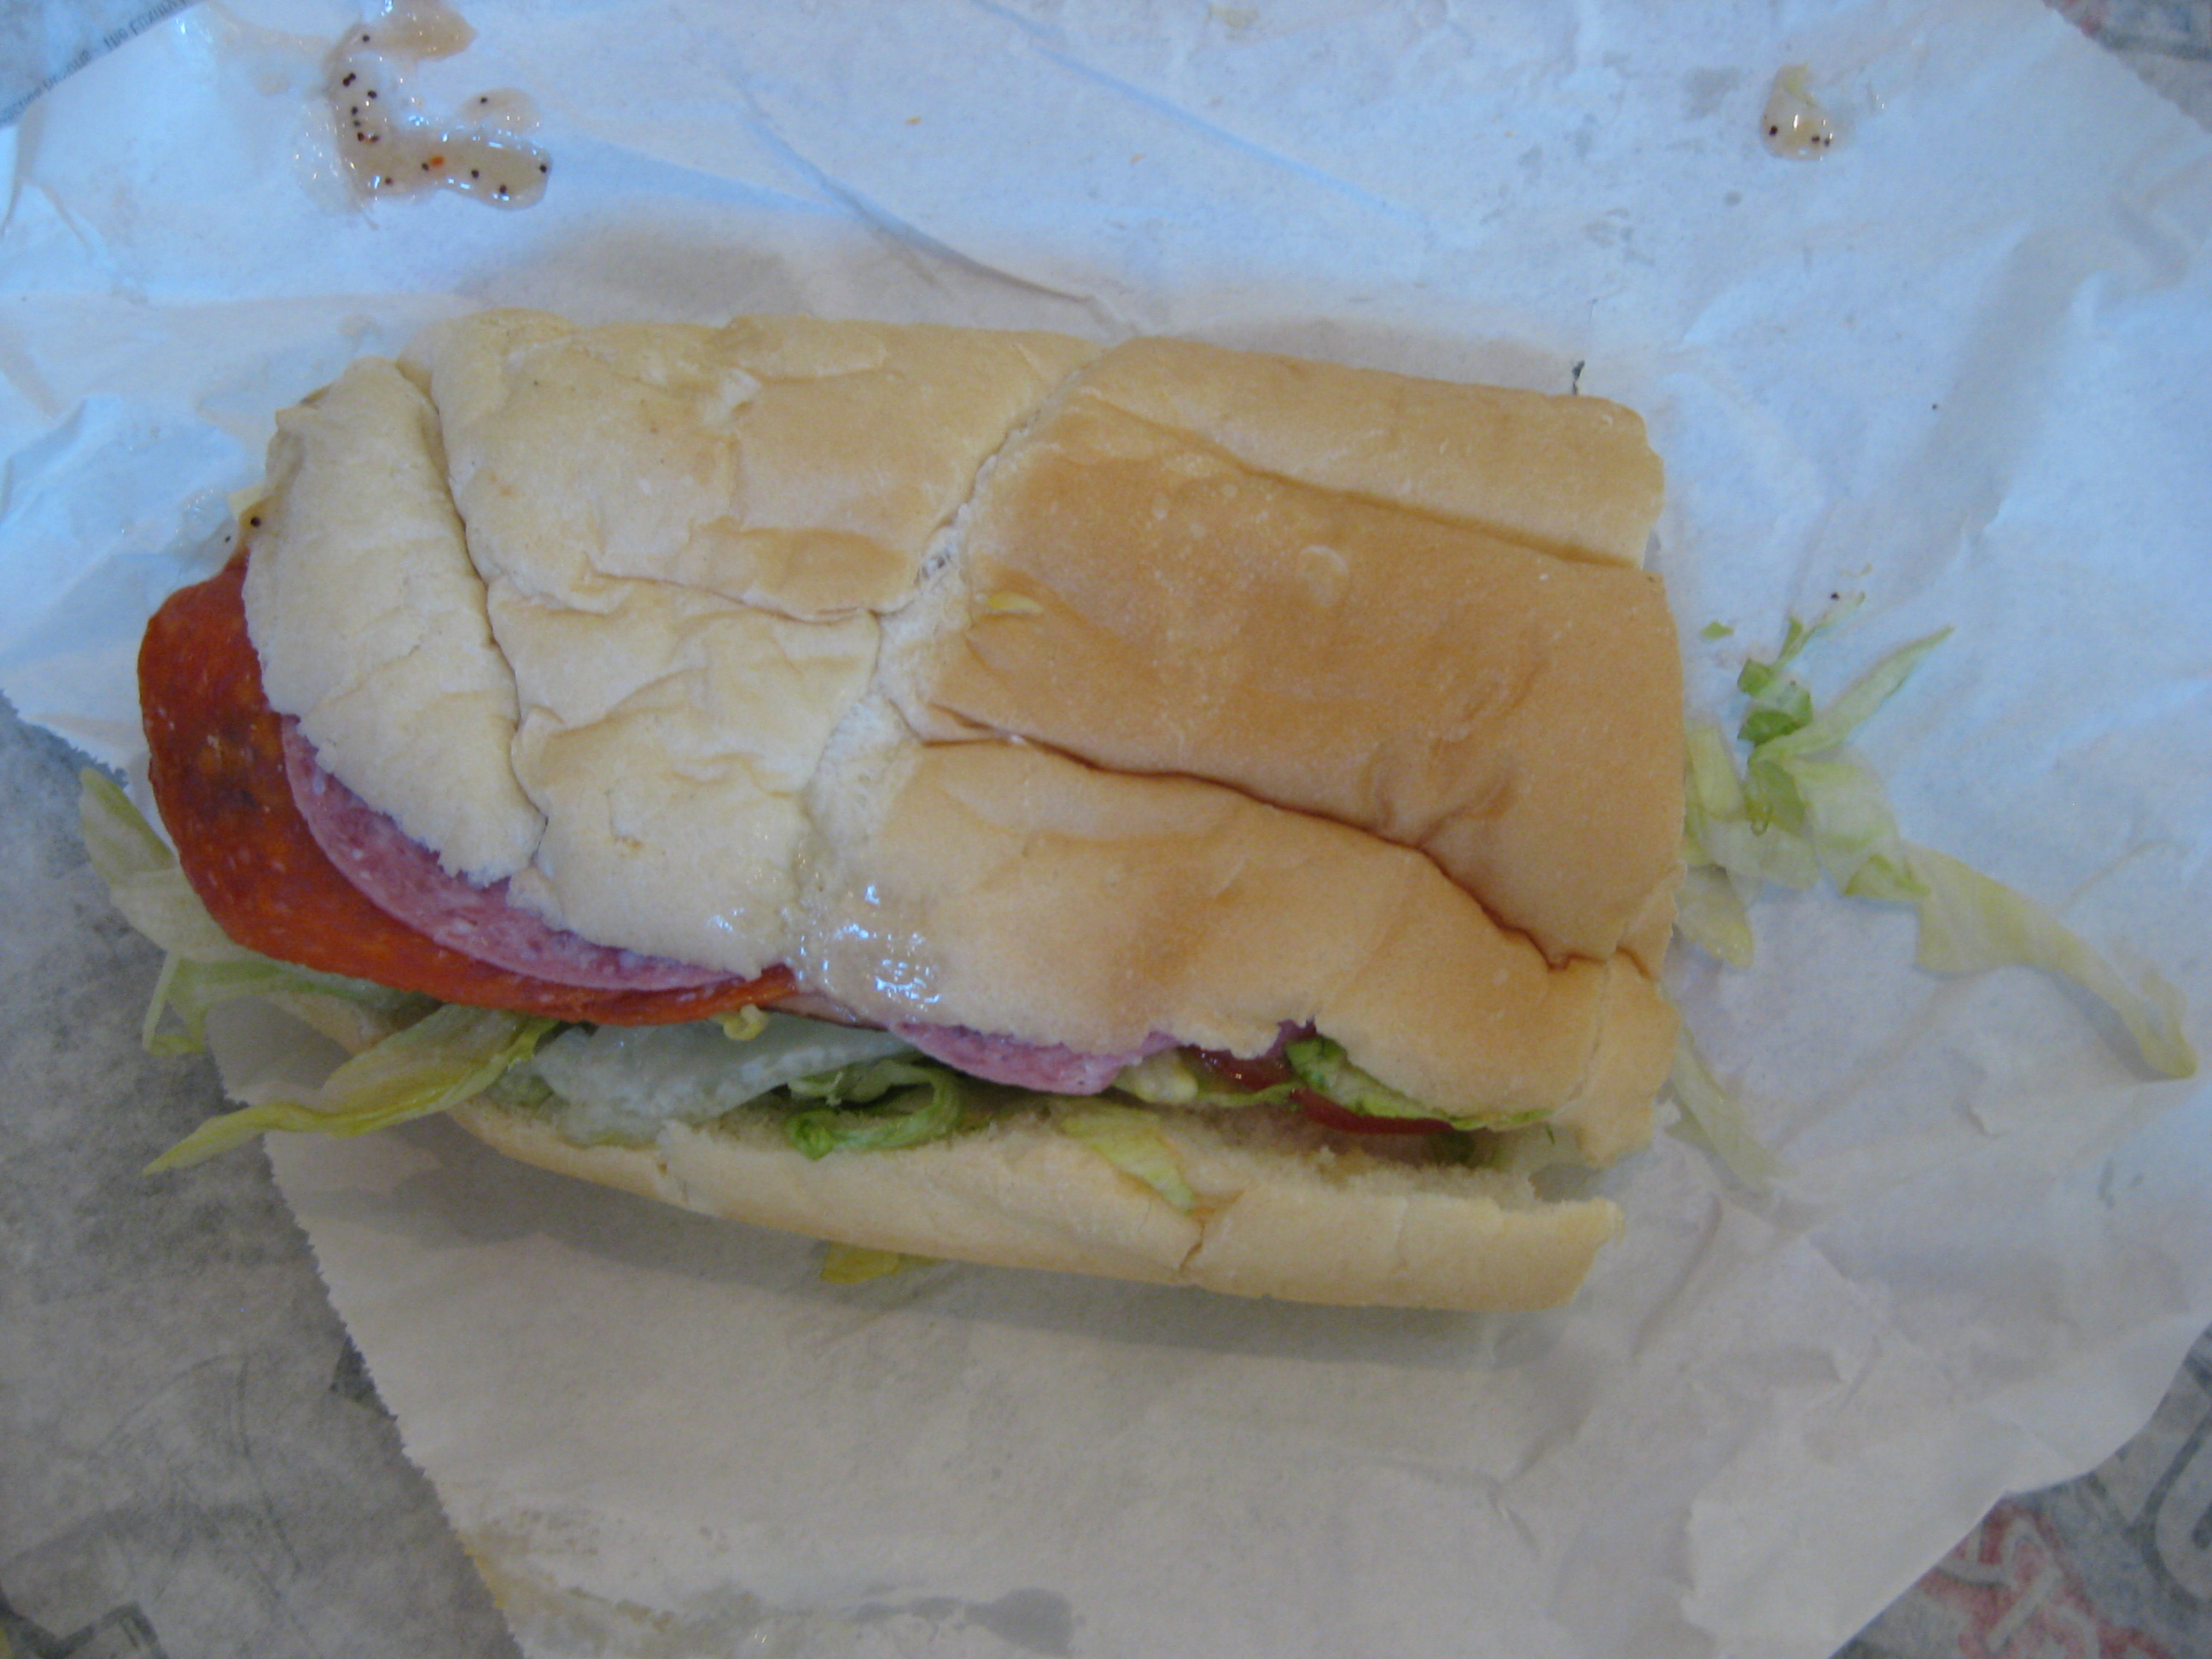sub: (93, 275, 1794, 1292)
